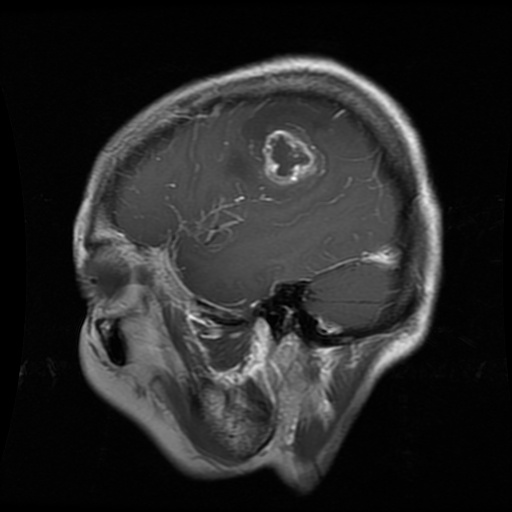glioma: (265, 128, 326, 184)
